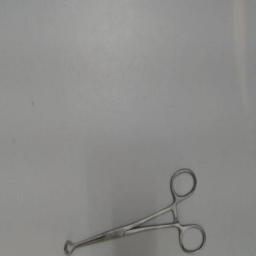Babcock Tissue Forceps: (60, 164, 208, 256)
